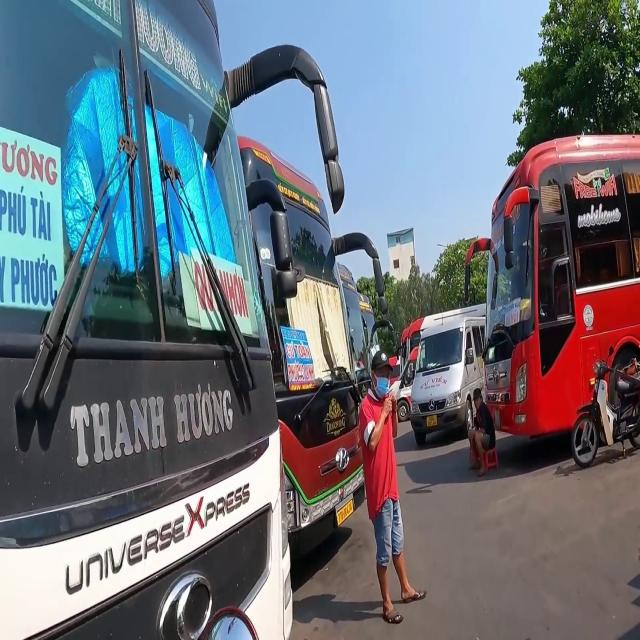bien_vang: (334, 494, 356, 528), (425, 415, 439, 428)
